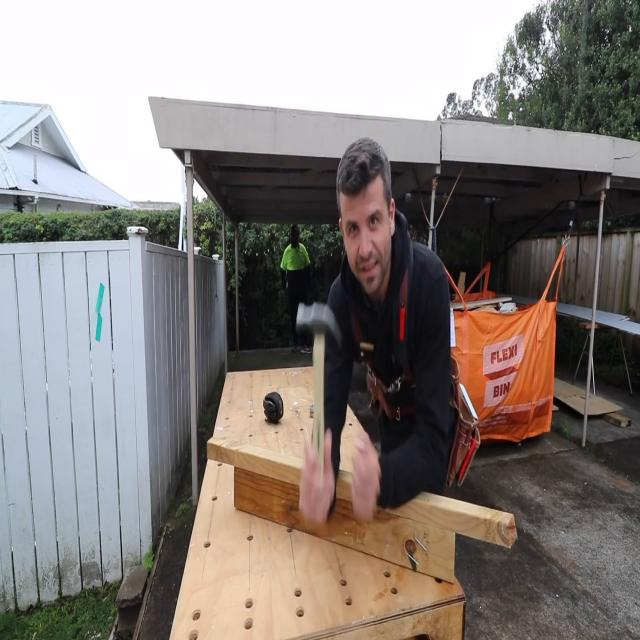hammer: (296, 303, 342, 475)
